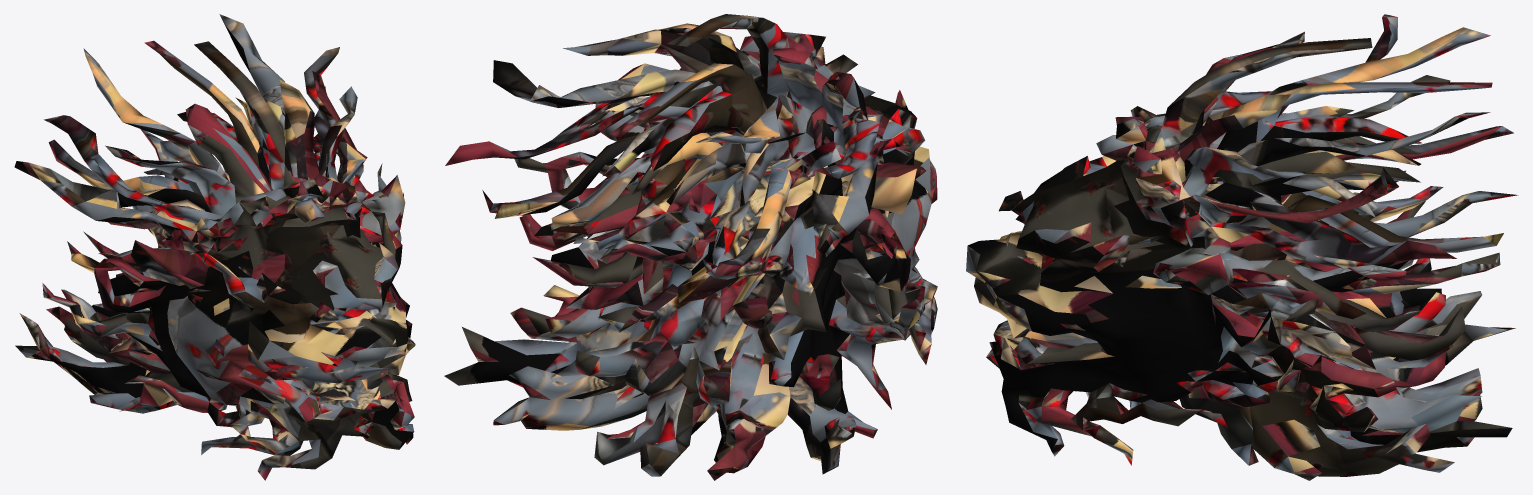
Rendered from guofengtoukui7.fbx.
3 renders of one model, left to right at view 1: azimuth 30°, elevation 25°; view 2: azimuth 150°, elevation 25°; view 3: azimuth 270°, elevation 25°, orthographic. The views are drawn at different scales.
Parts seen in each view (by area): view 1: Mesh_0; view 2: Mesh_0; view 3: Mesh_0.
Boxes of the visible parts, x1,y1,x2,y2 form: Mesh_0: [14, 14, 415, 480]; Mesh_0: [444, 14, 937, 480]; Mesh_0: [966, 14, 1518, 480].
Size of the model in its own units: 1.19 by 1.02 by 1.35.
